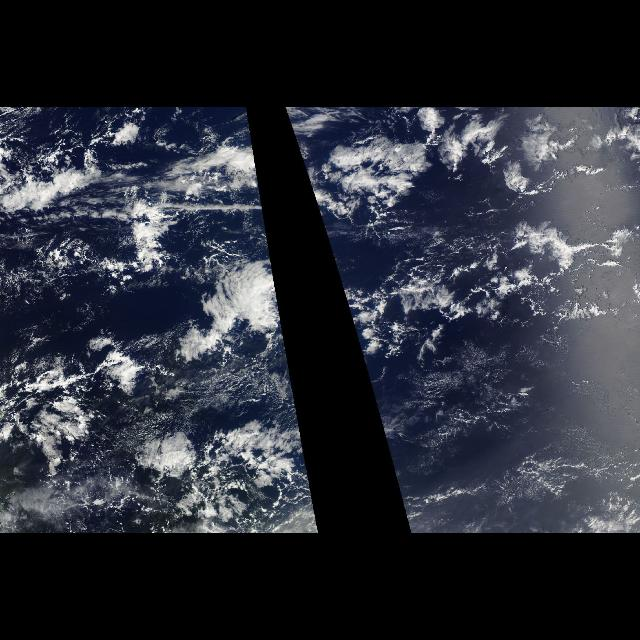Fish: (15, 139, 265, 223), (294, 139, 488, 223)
Flower: (175, 233, 297, 405), (325, 234, 453, 390)
Gravel: (436, 258, 634, 328)
